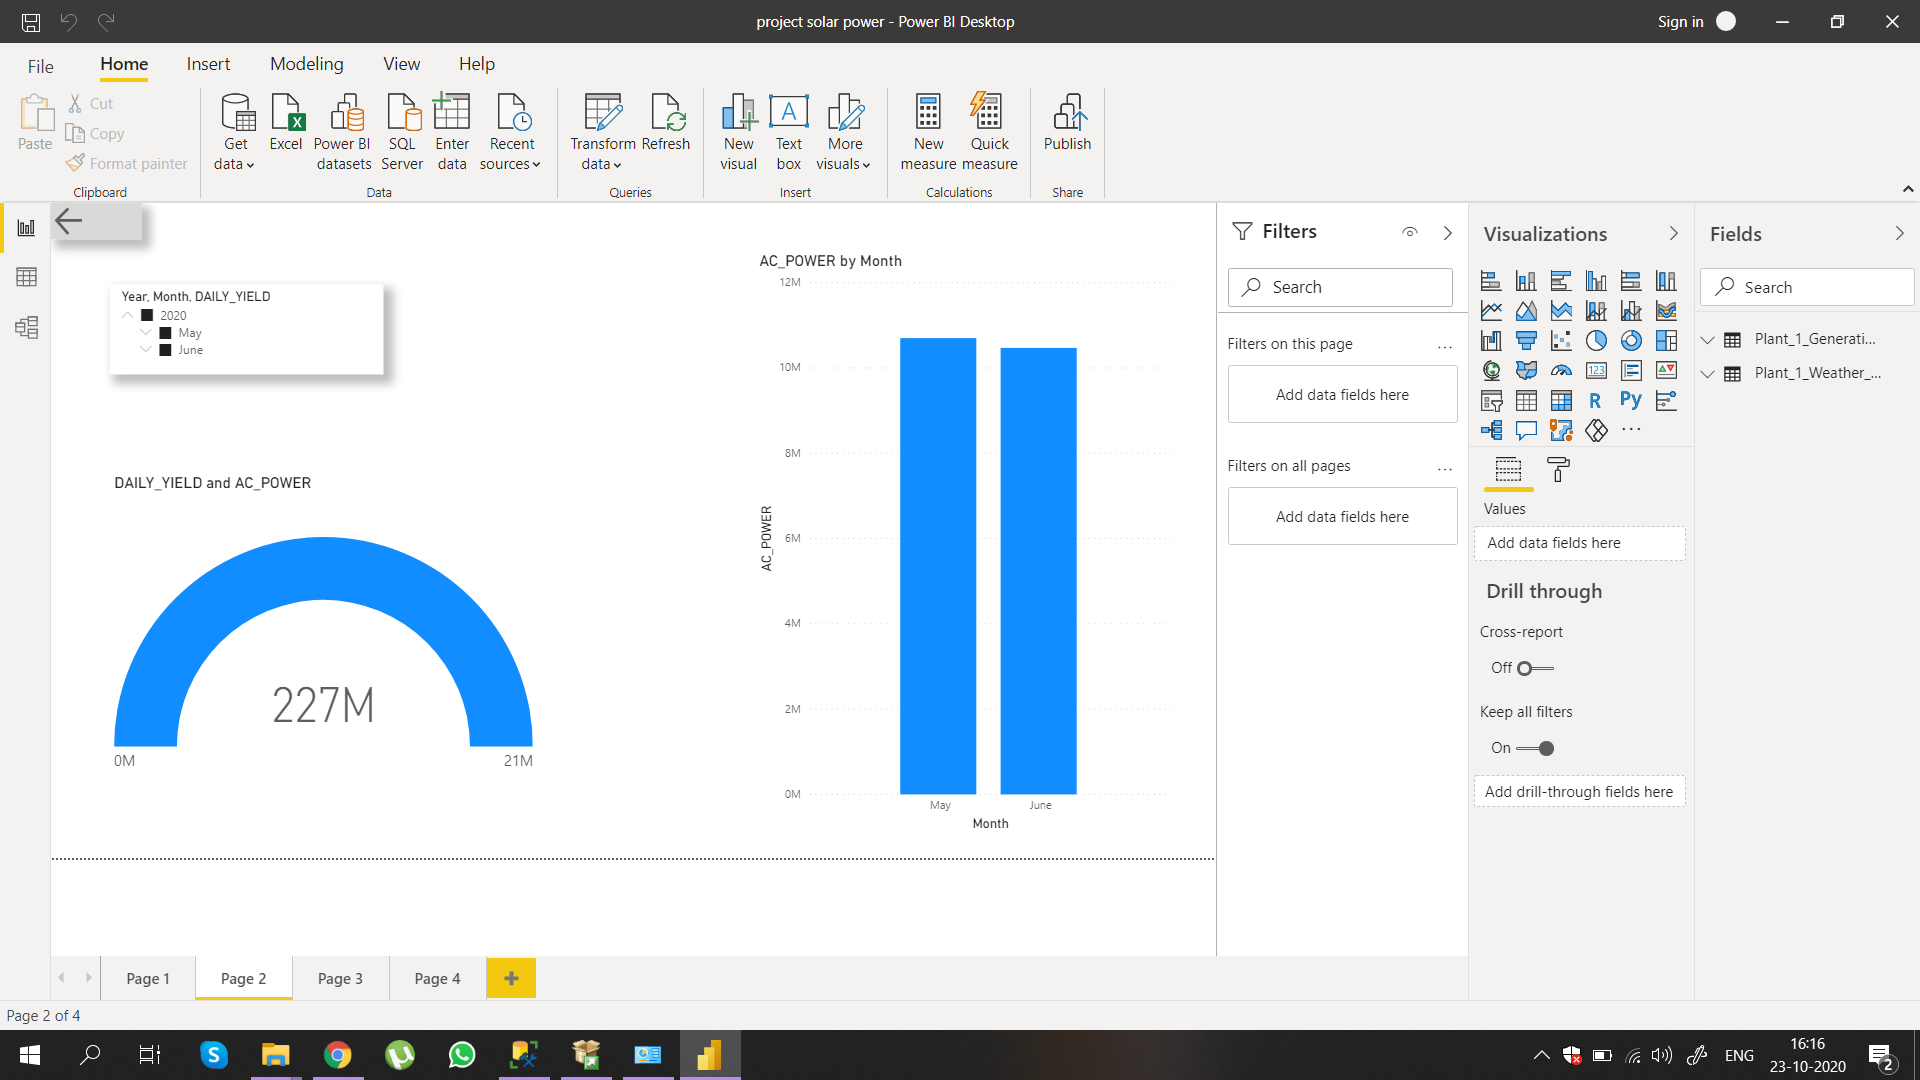

The page's visual inventory and layout, read from the dashboard file:
{"tool":"powerbi","page":{"name":"Page 2","canvas":[1280,720],"ordinal":1},"visuals":[{"type":"gauge","fields":{"Y":["Sum(Plant_1_Generation_Data.DAILY_YIELD)"],"MaxValue":["Sum(Plant_1_Generation_Data.AC_POWER)"]},"box":[64.5,296.7,469.7,383.2],"z":0},{"type":"slicer","fields":{"Values":["Plant_1_Generation_Data.DATE_TIME.Variation.Date Hierarchy.Year","Plant_1_Generation_Data.DATE_TIME.Variation.Date Hierarchy.Month","Plant_1_Generation_Data.DAILY_YIELD"]},"box":[64.5,89.3,300.8,98.9],"z":1000},{"type":"columnChart","fields":{"Y":["Sum(Plant_1_Generation_Data.AC_POWER)"],"Category":["Plant_1_Generation_Data.DATE_TIME.Variation.Date Hierarchy.Month"]},"box":[773.2,53.6,462.8,641.4],"z":2000},{"type":"actionButton","box":[0,0,100,40],"z":3000}]}

Visuals, with their boxes on the page's 1280x720 design canvas (x1, y1, x2, y2). These are canvas units, not pixel positions in the 1920x1080 screenshot, which may show the page scaled, cropped or inside an application window:
gauge - Sum(Plant_1_Generation_Data.DAILY_YIELD) x Sum(Plant_1_Generation_Data.AC_POWER): 64:297:534:680
slicer - Plant_1_Generation_Data.DATE_TIME.Variation.Date Hierarchy.Year x Plant_1_Generation_Data.DATE_TIME.Variation.Date Hierarchy.Month: 64:89:365:188
columnChart - Sum(Plant_1_Generation_Data.AC_POWER) x Plant_1_Generation_Data.DATE_TIME.Variation.Date Hierarchy.Month: 773:54:1236:695
actionButton: 0:0:100:40
